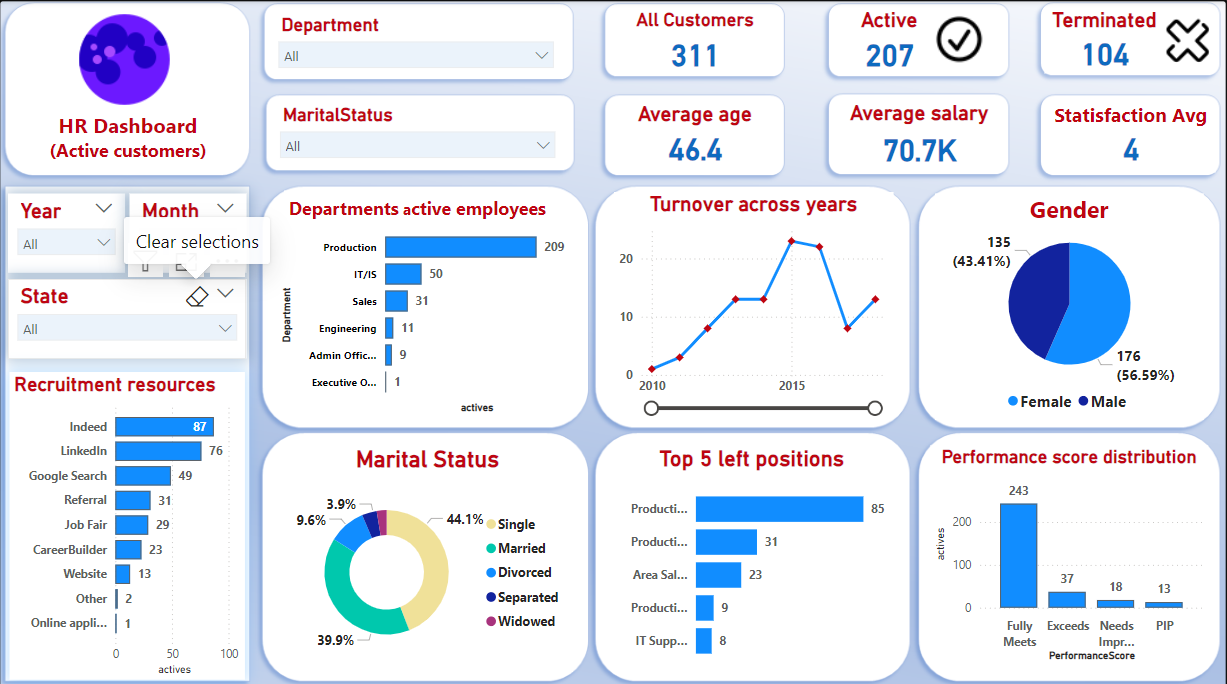

The dashboard page shown, as its layout file describes it:
{"tool":"powerbi","page":{"name":"Page 1","canvas":[1280,720],"ordinal":0},"visuals":[{"type":"image","box":[64.1,0,132.9,123.5],"z":0},{"type":"textbox","box":[21.9,109.4,225.1,65.6],"z":1000},{"type":"slicer","fields":{"Values":["HRData.Department"]},"box":[281.3,9.4,306.3,68.8],"z":2000},{"type":"slicer","fields":{"Values":["HRData.HiringDate.Variation.Date Hierarchy.Year"]},"box":[9.4,201.6,121.9,82.8],"z":3000},{"type":"slicer","fields":{"Values":["HRData.HiringDate.Variation.Date Hierarchy.Month"]},"box":[136,201.6,121.9,82.8],"z":4000},{"type":"slicer","fields":{"Values":["HRData.State"]},"box":[9.4,290.7,248.5,82.8],"z":5000},{"type":"card","title":"Active ","fields":{"Values":["HRData.actives"]},"box":[886.2,7.8,82.8,70.3],"z":6000},{"type":"card","title":"All Customers","fields":{"Values":["HRData.actives"]},"box":[648.6,9.4,153.2,68.8],"z":7000},{"type":"card","title":"Terminated","fields":{"Values":["HRData.actives"]},"box":[1089.4,7.8,125,68.8],"z":8000},{"type":"pieChart","title":"Gender","fields":{"Category":["HRData.Gender"],"Y":["CountNonNull(HRData.Gender)"]},"box":[975.1,202.2,279.7,236.2],"z":9000},{"type":"donutChart","title":"Marital Status","fields":{"Category":["HRData.MaritalStatus"],"Y":["CountNonNull(HRData.MaritalStatus)"]},"box":[294.8,464.9,302.4,236.2],"z":10000},{"type":"barChart","fields":{"Category":["HRData.Department"],"Y":["HRData.actives"]},"box":[289.2,221.9,309.5,212.6],"z":11000},{"type":"textbox","box":[296.6,199.1,290.5,44.7],"z":12000},{"type":"barChart","title":"Recruitment resources","fields":{"Category":["HRData.RecruitmentSource"],"Y":["HRData.actives"]},"box":[10.9,387.6,245.4,320.4],"z":13000},{"type":"card","title":"Average salary","fields":{"Values":["HRData.avg sal"]},"box":[870.6,104.7,176.6,73.5],"z":14000},{"type":"card","title":"Statisfaction Avg","fields":{"Values":["HRData.avg statisfaction"]},"box":[1091,106.3,176.6,73.5],"z":15000},{"type":"barChart","title":"Top 5 left positions","fields":{"Category":["HRData.Position"],"Y":["HRData.term_count"]},"box":[640.6,464.9,287.2,236.2],"z":17000},{"type":"columnChart","title":"Performance score distribution","fields":{"Category":["HRData.PerformanceScore"],"Y":["HRData.actives"]},"box":[971.3,464.9,289.1,228.7],"z":18000},{"type":"lineChart","title":"Turnover across years","fields":{"Y":["CountNonNull(HRData.EmployeeID)"],"Category":["HRData.TerminationDate.Variation.Date Hierarchy.Year"]},"box":[640.6,200.3,291,236.2],"z":19000},{"type":"image","box":[956.5,1.6,87.5,78.1],"z":20000},{"type":"image","box":[1197.2,7.8,82.8,68.8],"z":21000},{"type":"slicer","fields":{"Values":["HRData.MaritalStatus"]},"box":[282.9,103.2,306.3,68.8],"z":22000},{"type":"card","title":"Average age","fields":{"Values":["HRData.ages"]},"box":[648.6,106.3,153.2,68.8],"z":23000}]}

Visuals, with their boxes in screenshot pixels (x1, y1, x2, y2), scaled from the page's 1280x720 canvas onto the 1227x684 screenshot:
image: select_region(61, 0, 189, 117)
textbox: select_region(21, 104, 237, 166)
slicer - HRData.Department: select_region(270, 9, 563, 74)
slicer - HRData.HiringDate.Variation.Date Hierarchy.Year: select_region(9, 192, 126, 270)
slicer - HRData.HiringDate.Variation.Date Hierarchy.Month: select_region(130, 192, 247, 270)
slicer - HRData.State: select_region(9, 276, 247, 355)
"Active " card: select_region(850, 7, 929, 74)
"All Customers" card: select_region(622, 9, 769, 74)
"Terminated" card: select_region(1044, 7, 1164, 73)
"Gender" pieChart: select_region(935, 192, 1203, 416)
"Marital Status" donutChart: select_region(283, 442, 572, 666)
barChart - HRData.Department x HRData.actives: select_region(277, 211, 574, 413)
textbox: select_region(284, 189, 563, 232)
"Recruitment resources" barChart: select_region(10, 368, 246, 673)
"Average salary" card: select_region(835, 99, 1004, 169)
"Statisfaction Avg" card: select_region(1046, 101, 1215, 171)
"Top 5 left positions" barChart: select_region(614, 442, 889, 666)
"Performance score distribution" columnChart: select_region(931, 442, 1208, 659)
"Turnover across years" lineChart: select_region(614, 190, 893, 415)
image: select_region(917, 2, 1001, 76)
image: select_region(1148, 7, 1226, 73)
slicer - HRData.MaritalStatus: select_region(271, 98, 565, 163)
"Average age" card: select_region(622, 101, 769, 166)
